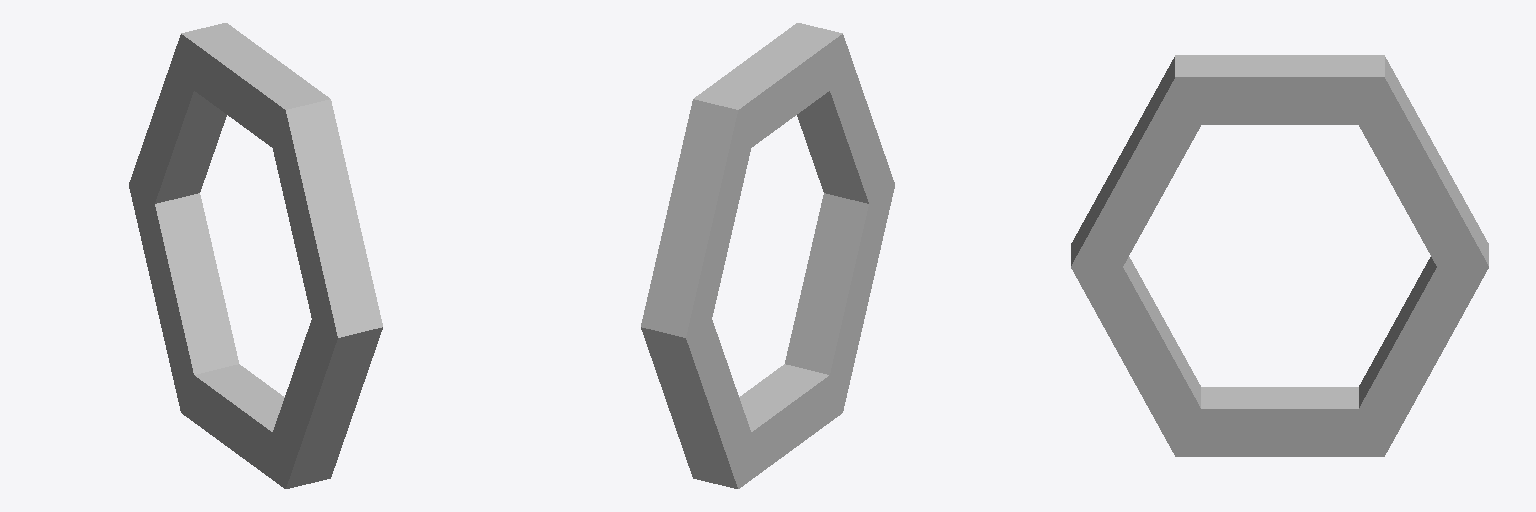
The model's file is humanity_phylactery_outer_frame.obj.
3 views of the same model, side by side, from view 1: azimuth 30°, elevation 25°; view 2: azimuth 150°, elevation 25°; view 3: azimuth 270°, elevation 25° (orthographic).
Visible parts, largest first — view 1: Inner_frame_Cube.002; view 2: Inner_frame_Cube.002; view 3: Inner_frame_Cube.002.
Boxes of the visible parts, x1=… form: Inner_frame_Cube.002: x1=129, y1=23, x2=382, y2=488; Inner_frame_Cube.002: x1=641, y1=23, x2=894, y2=488; Inner_frame_Cube.002: x1=1071, y1=55, x2=1488, y2=456.
Size of the model in its own units: 0.125 by 1 by 1.